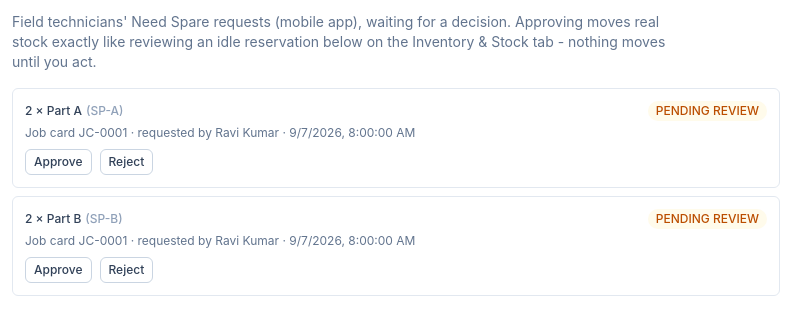
Test: NeedSpareReviewPage - listing and review actions › reviewing one row of several only resolves that row, leaving the other pending
Check: the number of elements with test id "need-spare-row" is 2, box [12,88,780,188]; [12,196,780,296]
What coordinates should you click on to do the following:
click the button "Approve" below "Part A"
I would click on:
 (58, 162)
Its box is [25,149,92,175].
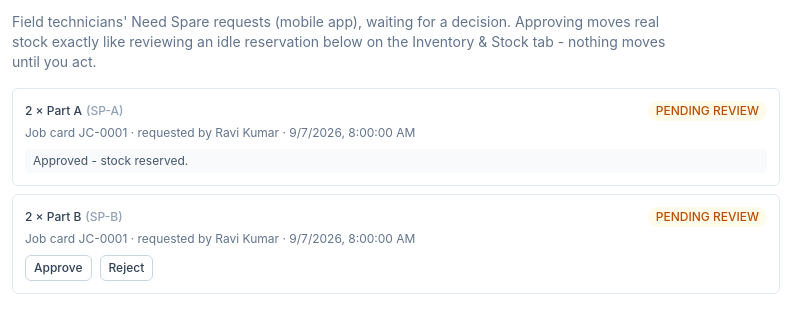
Check: the text "Approved - stock reserved." is shown, box [25,149,767,173]
Check: the number of buttons "Approve" is 1, box [25,255,92,281]
Check: the number of buttons "Reject" is 1, box [100,255,153,281]
